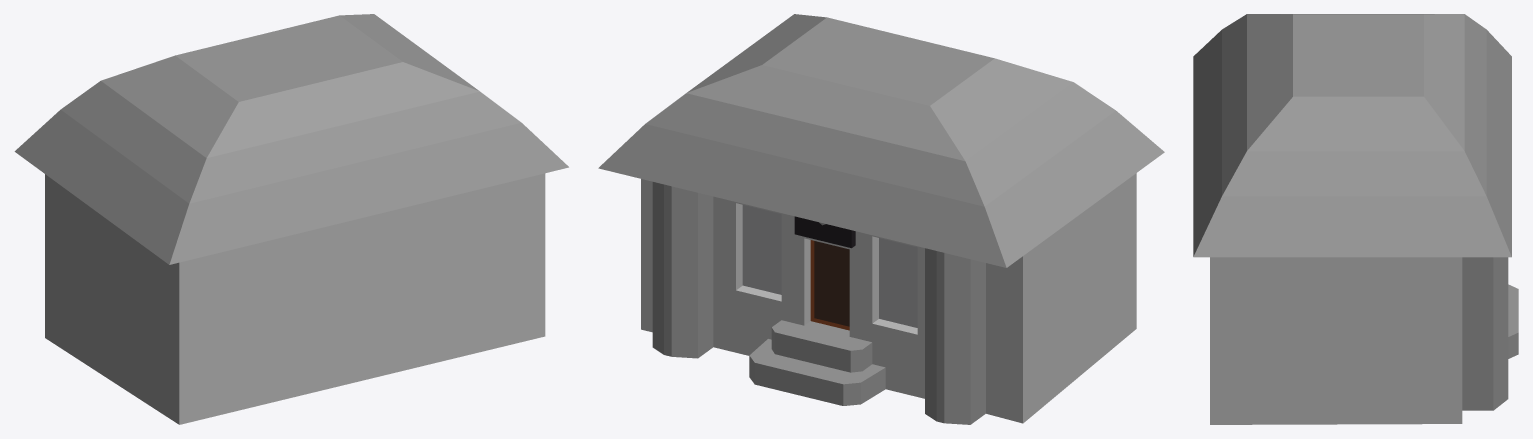
File: postOffice.fbx
3 views of the same model, side by side, from view 1: azimuth 30°, elevation 25°; view 2: azimuth 150°, elevation 25°; view 3: azimuth 270°, elevation 25° (orthographic). The views are drawn at different scales.
Visible parts, largest first — view 1: PostOffice; view 2: PostOffice; view 3: PostOffice.
Boxes of the visible parts, x1,y1,x2,y2 form: PostOffice: [14, 14, 568, 424]; PostOffice: [598, 14, 1164, 424]; PostOffice: [1193, 14, 1518, 424].
Bounding box in the file's own units: 1940 × 1250 × 1329.
